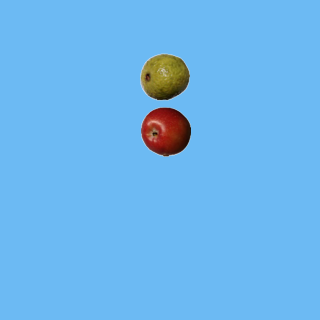Apple Braeburn: (140, 106, 190, 156)
Guava: (139, 51, 189, 101)
